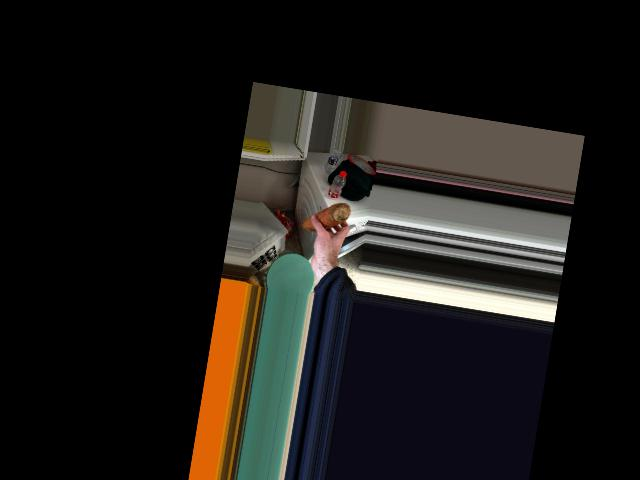sweet_potato: (301, 196, 351, 235)
